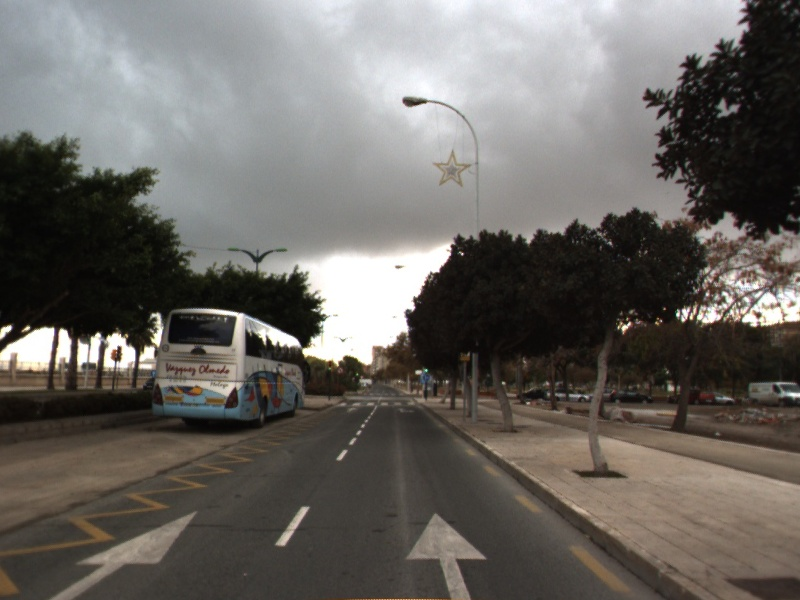STRAIGHT: (50, 506, 202, 600), (403, 509, 492, 600)
